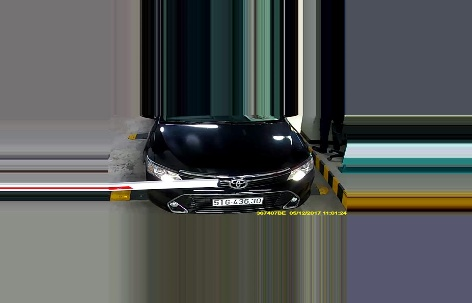plate: (211, 194, 263, 209)
